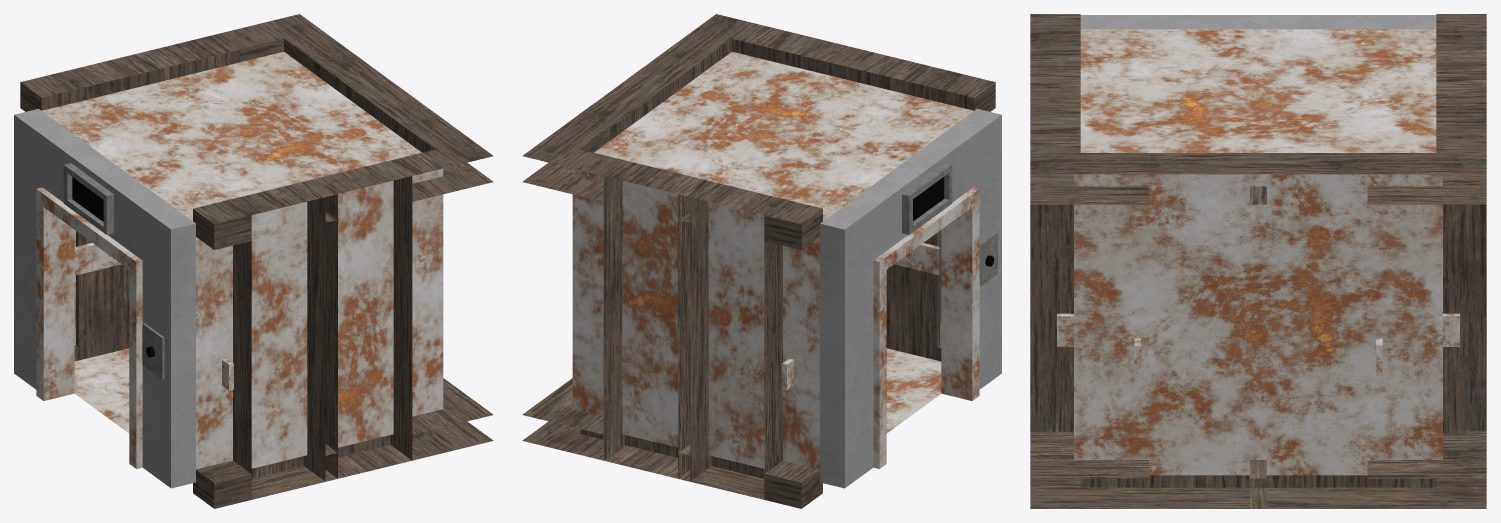
File: Elevator.fbx
The picture shows the model from 3 angles, left to right: view 1: azimuth 30°, elevation 25°; view 2: azimuth 150°, elevation 25°; view 3: azimuth 270°, elevation 25°; orthographic projection. The views are drawn at different scales.
Visible parts, largest first — view 1: Wall_ElevatorFrame.002; view 2: Wall_ElevatorFrame.002; view 3: Wall_ElevatorFrame.002.
Part boxes in pixels (box(x1,y1,x2,y2)): Wall_ElevatorFrame.002: box(14, 14, 493, 508); Wall_ElevatorFrame.002: box(522, 14, 1001, 508); Wall_ElevatorFrame.002: box(1030, 14, 1486, 508).
Bounding box in the file's own units: 2.52 × 2.2 × 2.72.
